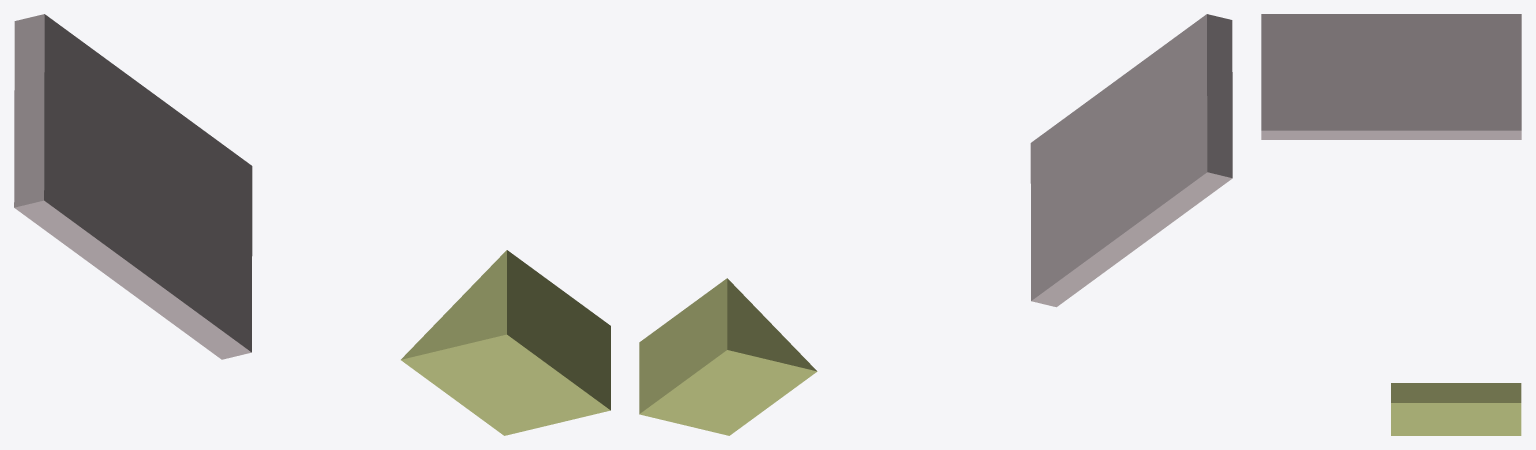
The picture shows the model from 3 angles, left to right: view 1: azimuth 30°, elevation 25°; view 2: azimuth 150°, elevation 25°; view 3: azimuth 270°, elevation 25°; orthographic projection. The views are drawn at different scales.
Parts seen in each view (by area): view 1: 0_2_2_0_0_0_2_1_1_1; view 2: 0_2_2_0_0_0_2_1_1_1; view 3: 0_2_2_0_0_0_2_1_1_1.
Part boxes in pixels (x1,y1,x2,y2): 0_2_2_0_0_0_2_1_1_1: [14, 14, 610, 435]; 0_2_2_0_0_0_2_1_1_1: [639, 14, 1232, 435]; 0_2_2_0_0_0_2_1_1_1: [1261, 14, 1521, 435].
Bounding box in the file's own units: 16.42 × 13.8 × 12.
